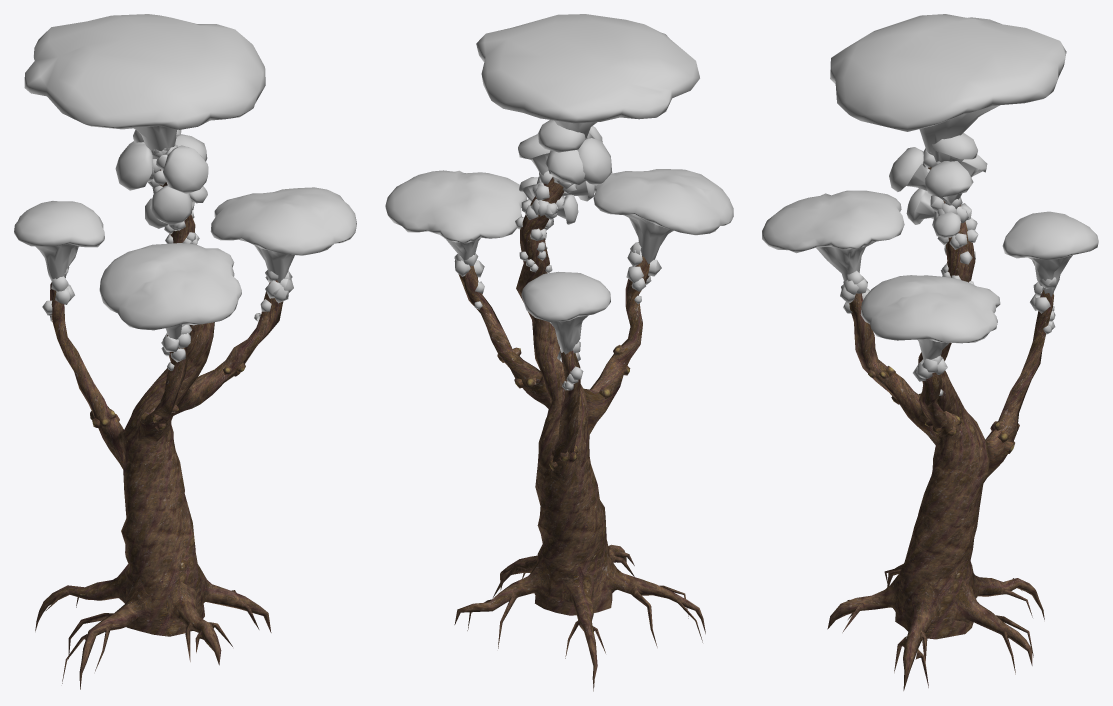
The model's file is Shrooomtree_1_L2.fbx.
The picture shows the model from 3 angles, left to right: view 1: azimuth 30°, elevation 25°; view 2: azimuth 150°, elevation 25°; view 3: azimuth 270°, elevation 25°; orthographic projection.
Parts seen in each view (by area): view 1: polySurface67; view 2: polySurface67; view 3: polySurface67.
Part boxes in pixels (x1,y1,x2,y2): polySurface67: (14, 14, 356, 689); polySurface67: (385, 14, 733, 691); polySurface67: (762, 14, 1098, 690).
Bounding box in the file's own units: 655 × 1281 × 642.
